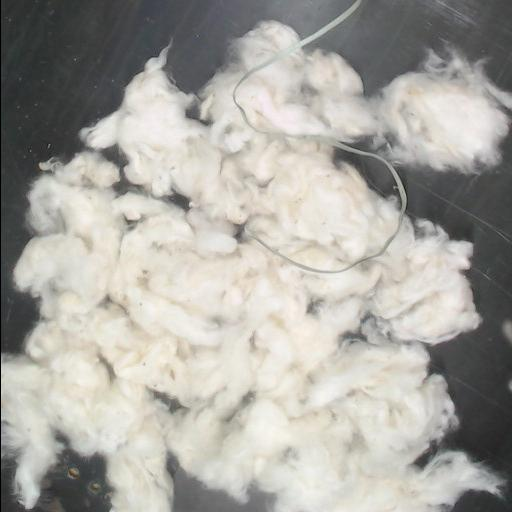conveyor belt: (1, 0, 351, 351), (397, 126, 512, 511), (309, 0, 512, 94), (1, 450, 109, 511), (168, 458, 270, 511), (336, 150, 395, 194), (102, 147, 124, 168), (166, 193, 187, 207)
cotton: (1, 20, 500, 511), (238, 49, 507, 173)
thread: (231, 0, 406, 274)
